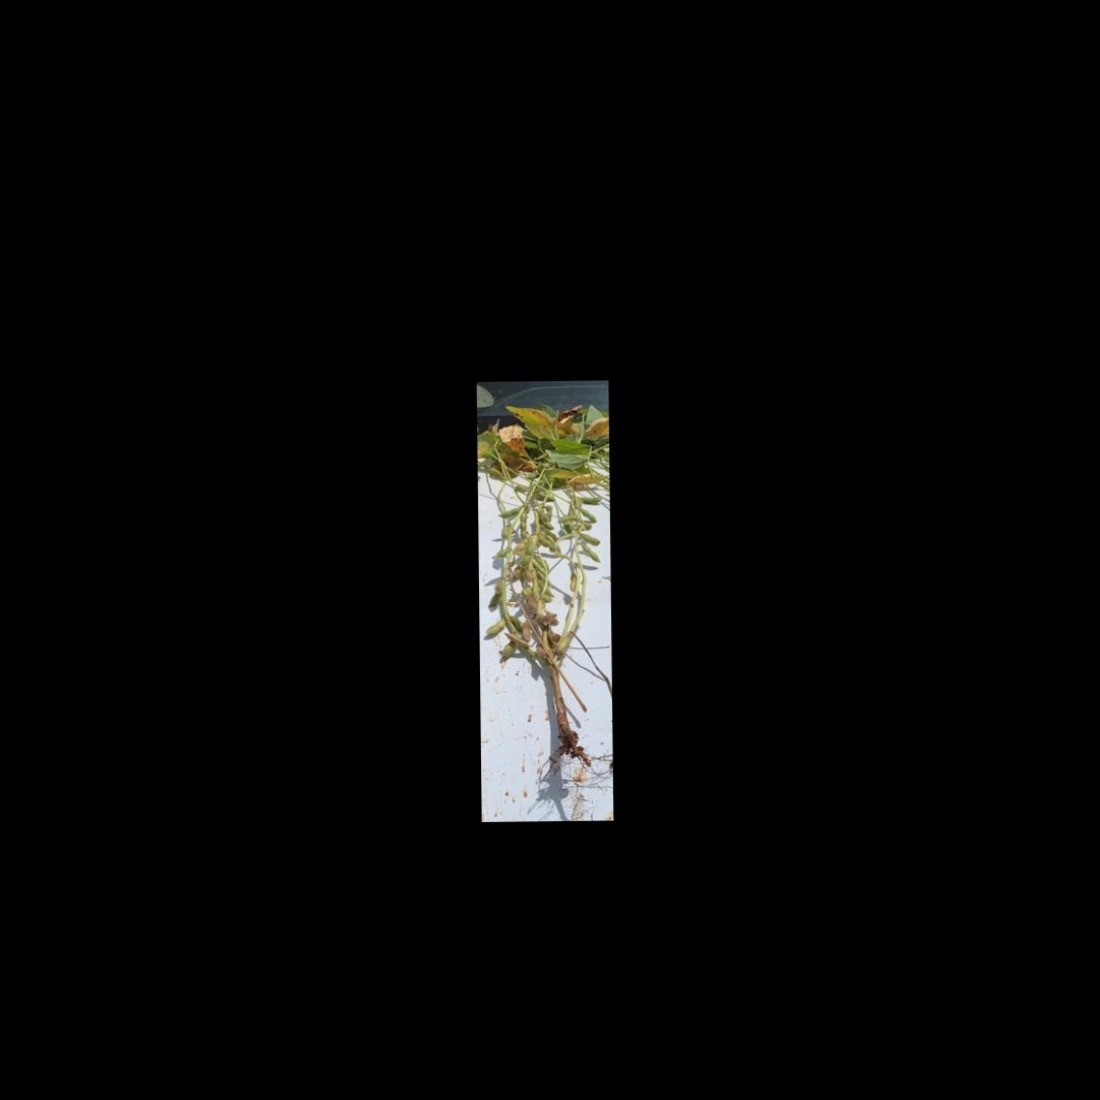pod: (483, 615, 506, 638), (580, 543, 603, 565), (497, 504, 522, 519), (577, 506, 597, 523), (575, 493, 603, 504), (581, 532, 602, 545), (567, 572, 576, 593)
soy: (478, 417, 608, 782)
